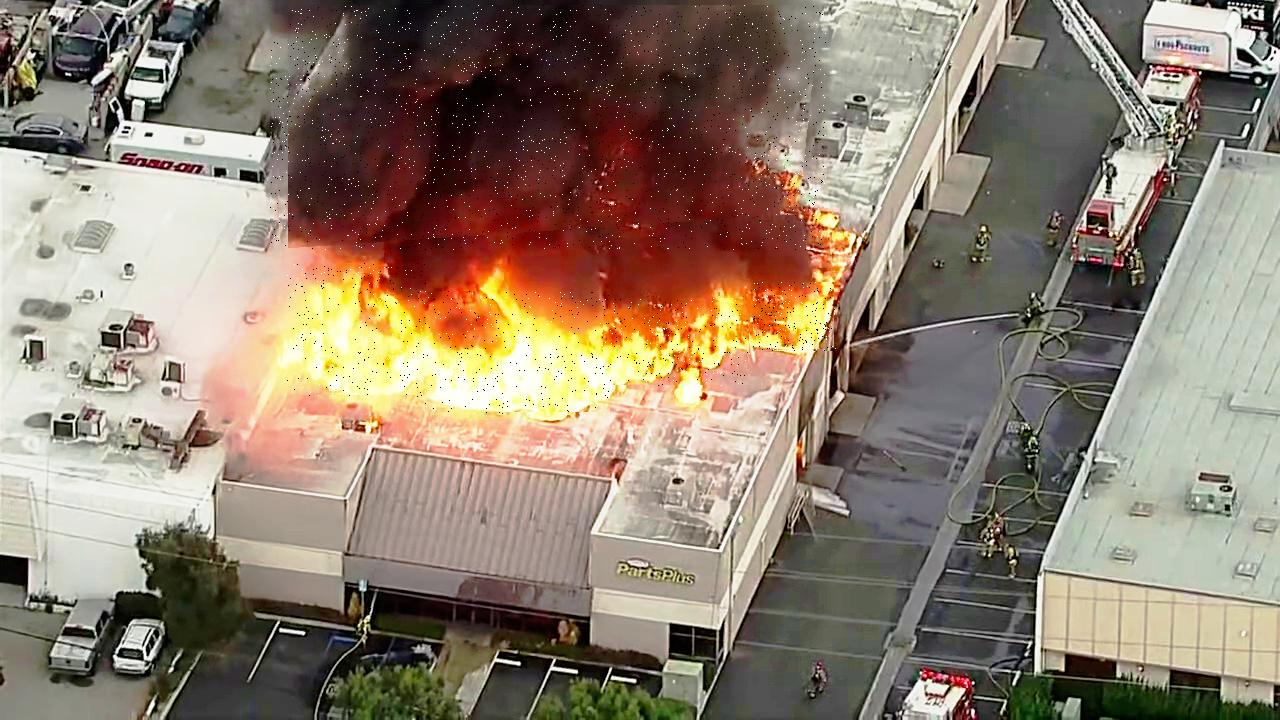fire: (418, 292, 610, 415), (287, 264, 426, 398), (603, 299, 750, 388), (754, 282, 837, 351)
smoke: (289, 5, 827, 250), (270, 39, 458, 247)
